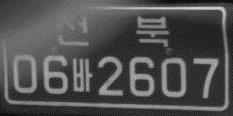0: (160, 56, 187, 99), (12, 53, 38, 94)
2: (96, 55, 125, 96)
6: (127, 56, 157, 97), (42, 54, 68, 96)
7: (191, 55, 220, 99)
바: (70, 56, 93, 93)
전북_D: (54, 12, 170, 48)
